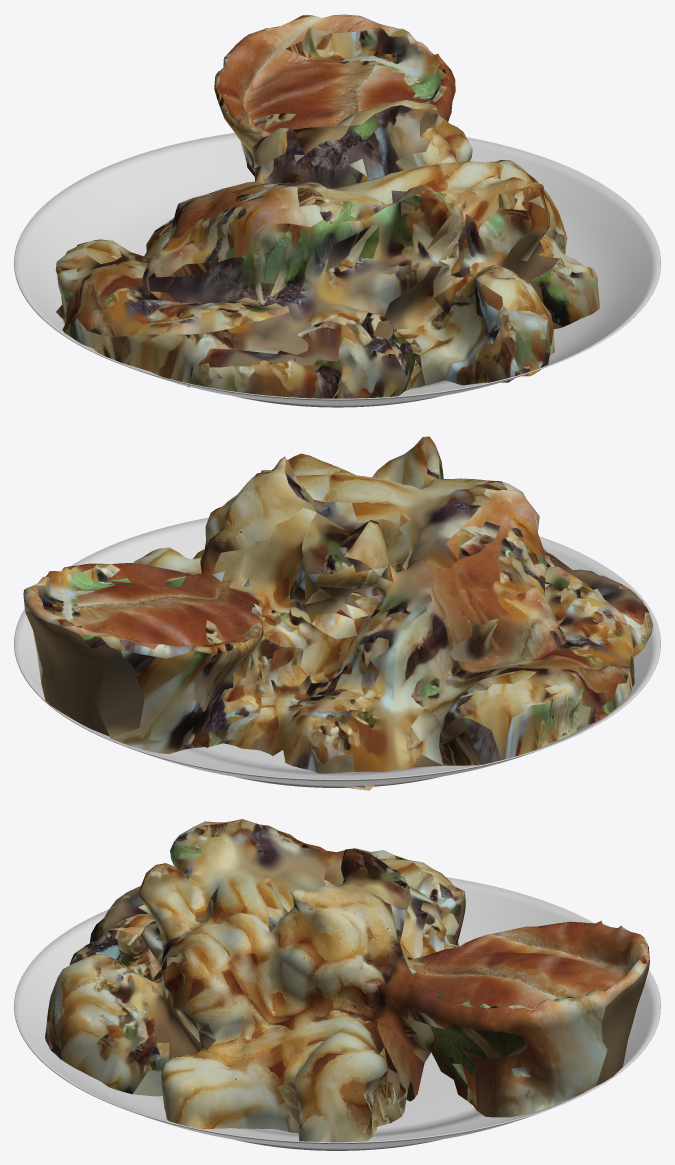
Rendered from Alitas002.fbx.
3 views of the same model, one above another, from view 1: azimuth 30°, elevation 25°; view 2: azimuth 150°, elevation 25°; view 3: azimuth 270°, elevation 25° (orthographic).
Visible parts, largest first — view 1: Mesh_0, Plate; view 2: Mesh_0, Plate; view 3: Mesh_0, Plate.
Part boxes in pixels (x1,y1,x2,y2): Mesh_0: (55,14,599,398); Plate: (14,133,660,407); Mesh_0: (23,436,653,790); Plate: (14,517,660,787); Mesh_0: (45,819,649,1142); Plate: (14,877,660,1150).
Bounding box in the file's own units: 330 × 123 × 330.
